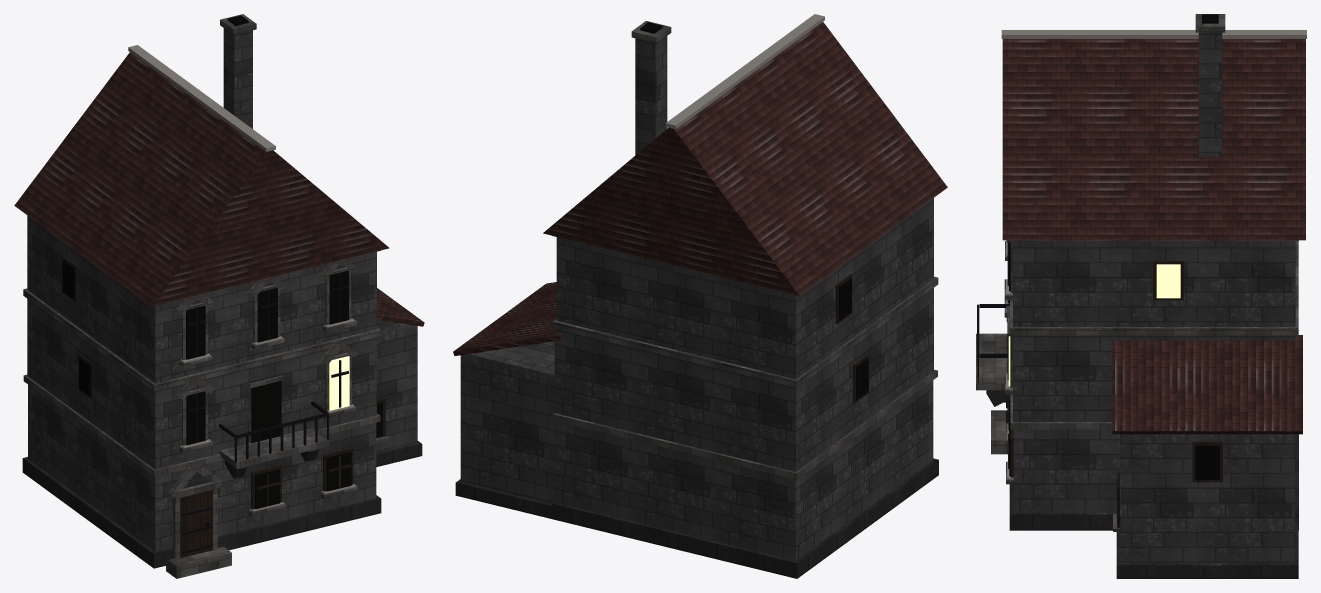
File: CasaB22.gltf
3 views of the same model, side by side, from view 1: azimuth 30°, elevation 25°; view 2: azimuth 150°, elevation 25°; view 3: azimuth 270°, elevation 25° (orthographic). The views are drawn at different scales.
Visible parts, largest first — view 1: CasaB22; view 2: CasaB22; view 3: CasaB22.
Boxes of the visible parts, left/top/right/bottom form: CasaB22: left=14, top=14, right=424, bottom=578; CasaB22: left=453, top=14, right=947, bottom=578; CasaB22: left=976, top=14, right=1306, bottom=578.
Bounding box in the file's own units: 12.6 × 16.69 × 10.14.
9 materials, 5 textured.
